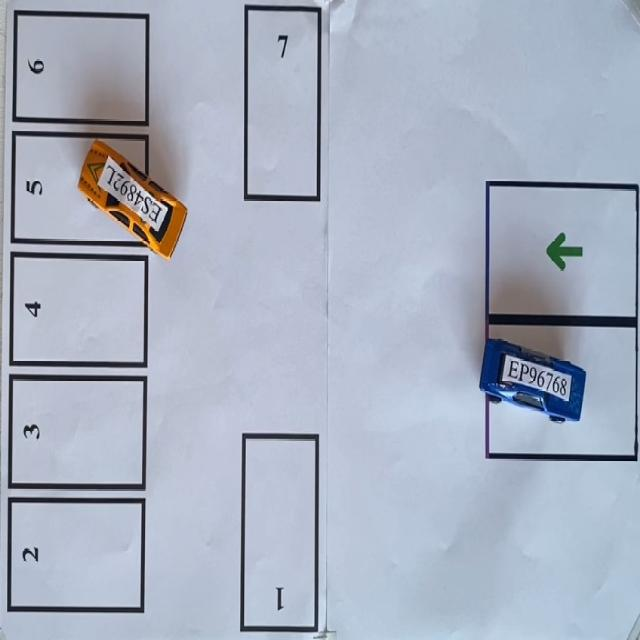car: (78, 139, 186, 259), (480, 339, 586, 421)
